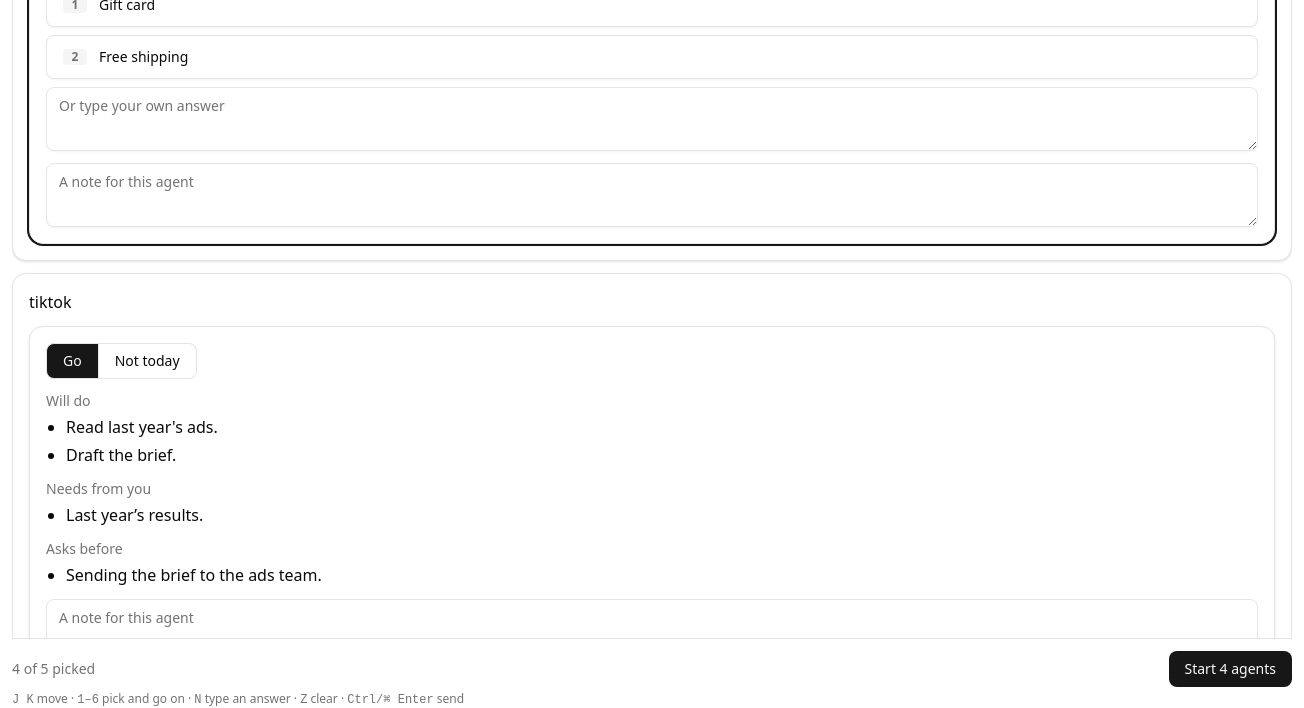
Test case: starts every plan card on Go and sends each with the other answers on one Start, one tap per card
The image size is (1304, 708).
(page scrolled)
Expected: the button "Start 4 agents" is shown, [1168,651,1292,687]
Click the radio button labelled "Not today" at (148, 360), box [99,342,197,378]
(page scrolled)
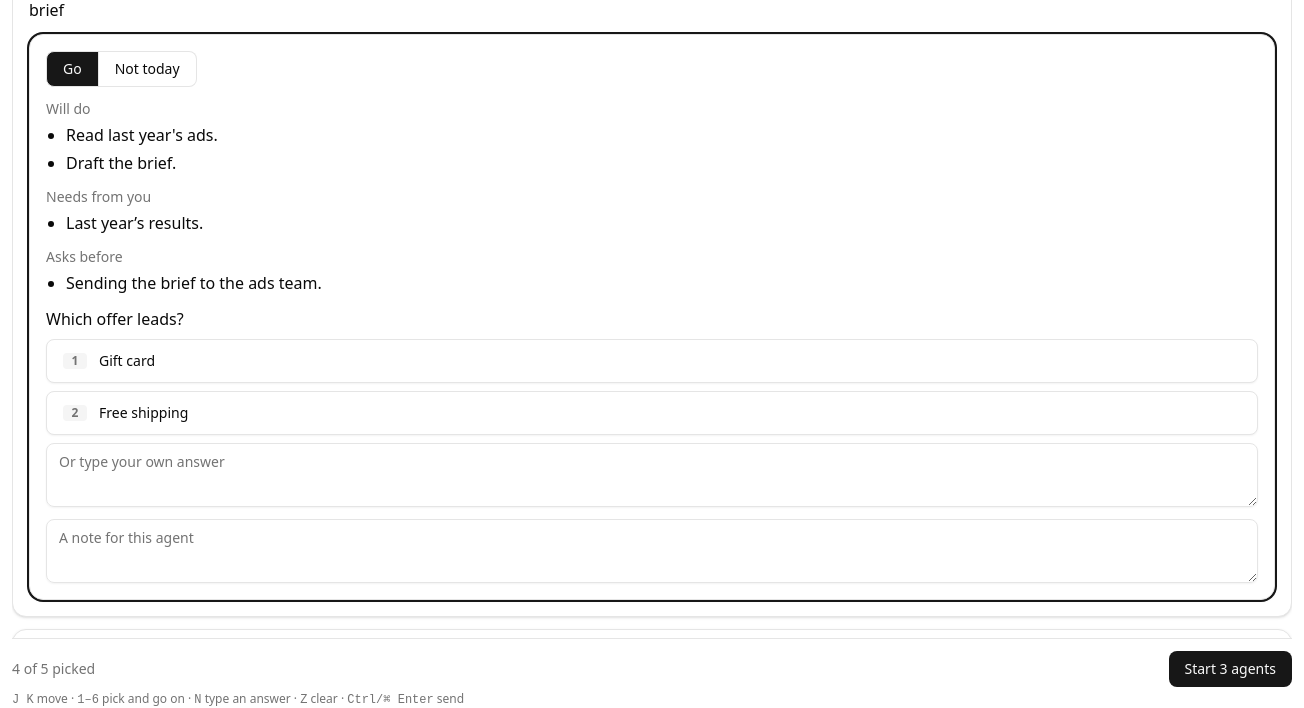
Result: the button "Start 3 agents" is shown at [1168,651,1292,687]
Click the radio button labelled "Gift card" at (652, 360), box [46,338,1258,382]
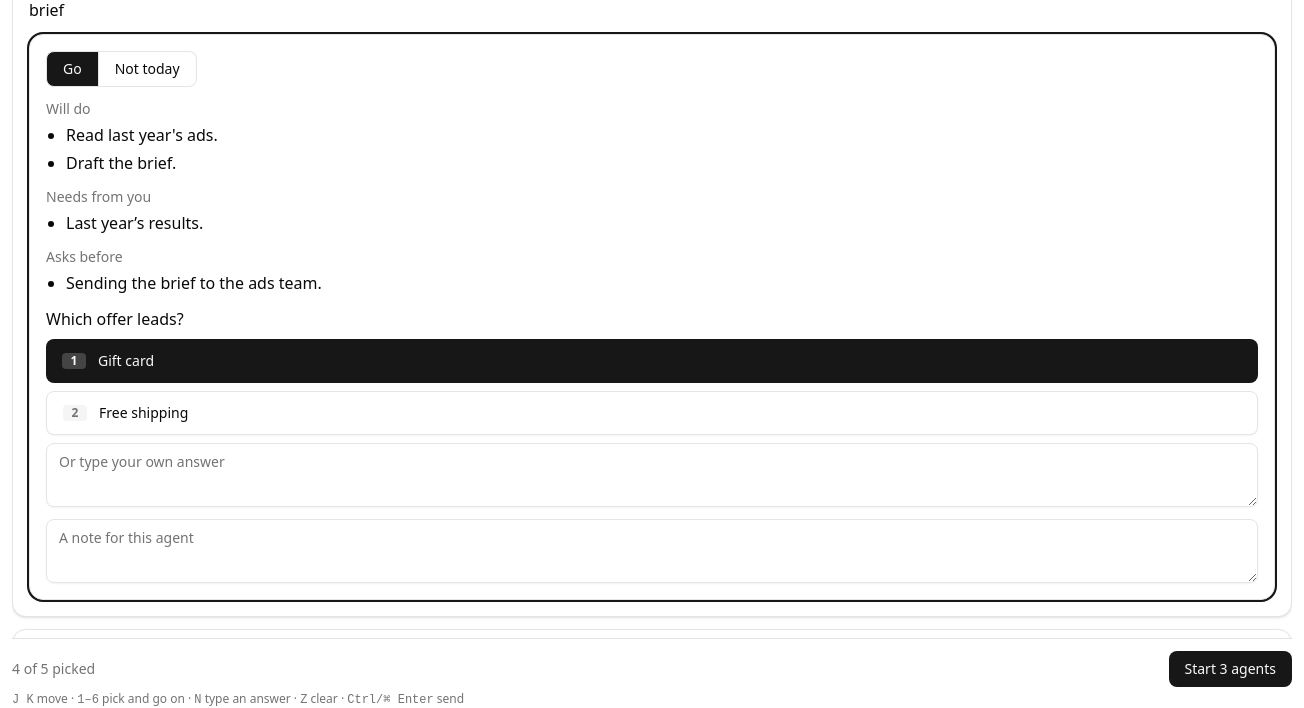
Type "Keep it short" into the text box labelled "A note for this agent" at (652, 550), box [46,518,1258,582]
(page scrolled)
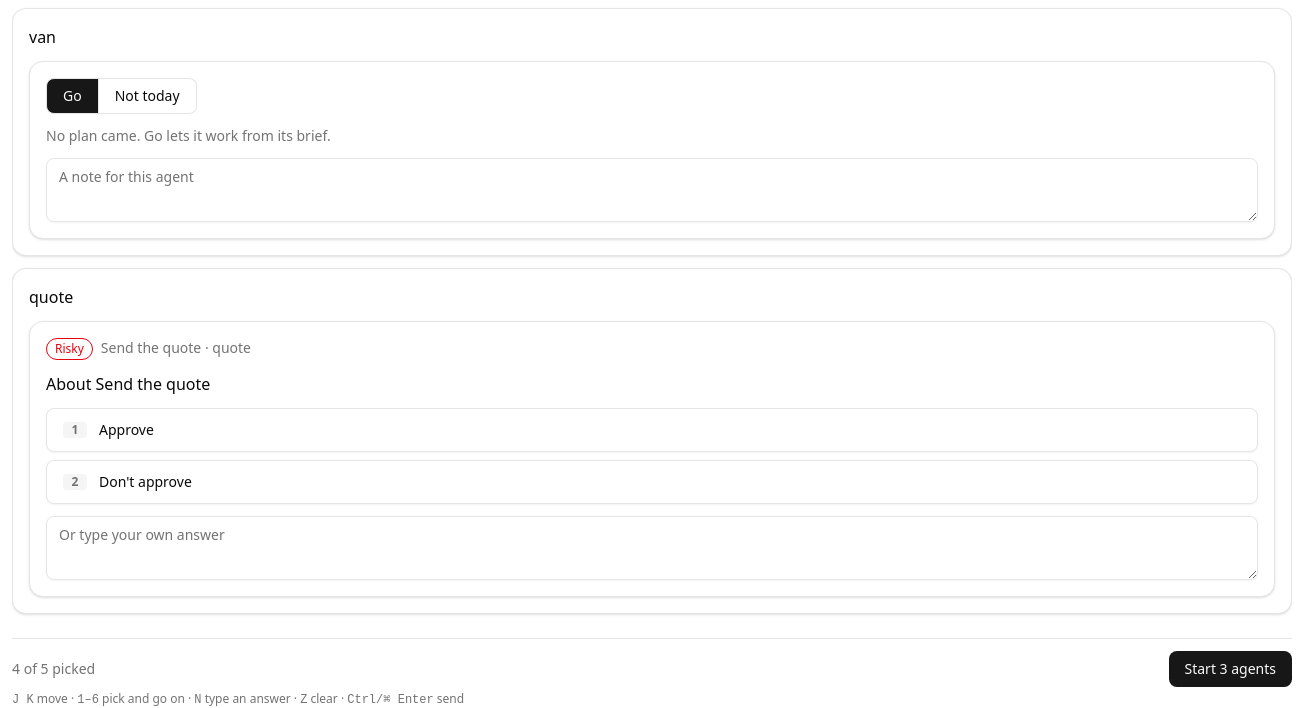
Click the radio button labelled "Approve" at (652, 430), box [46,408,1258,452]
(page scrolled)
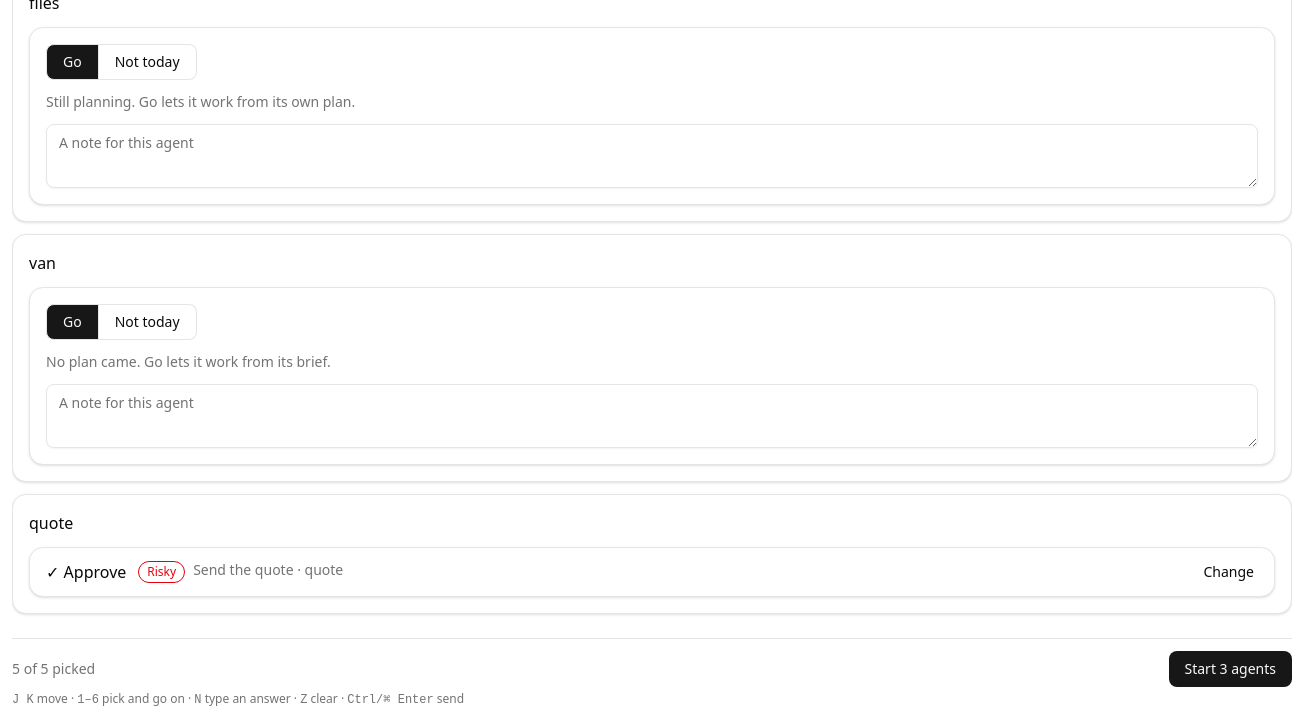
Click the button "Start 3 agents" at (1230, 668), box [1168,650,1292,686]
(page scrolled)
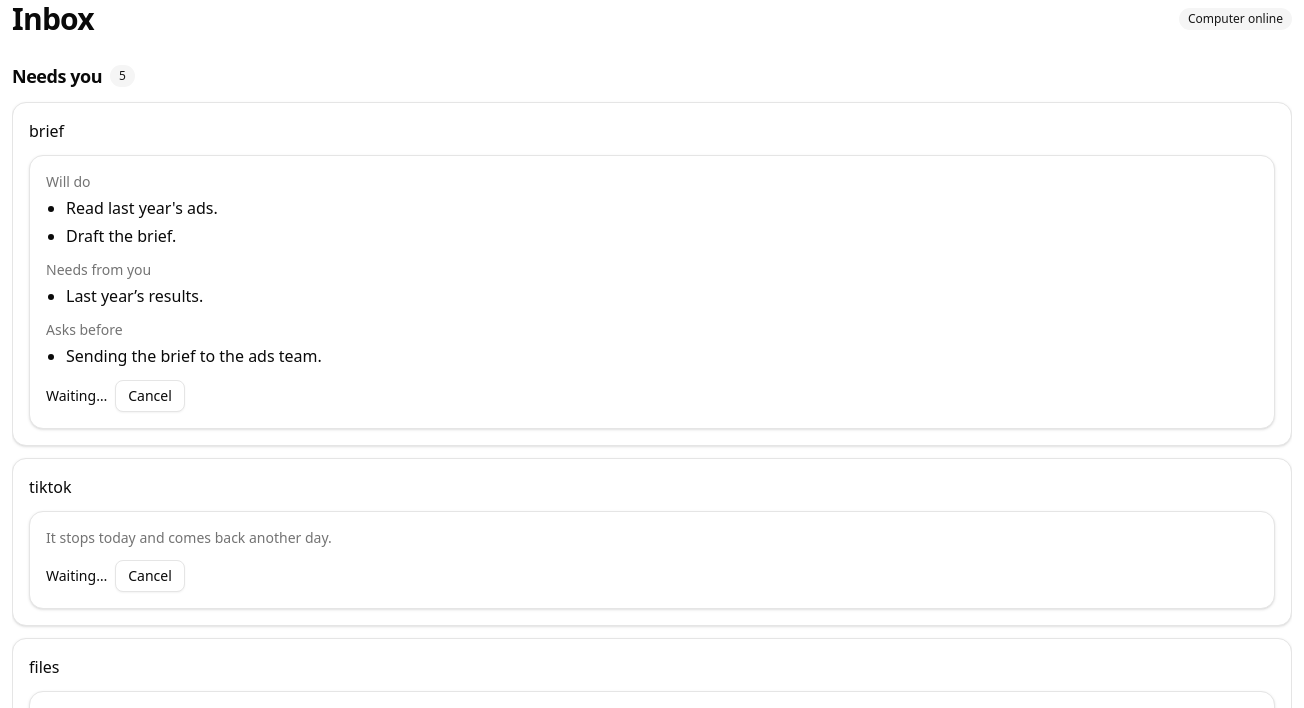
Expected: the text "Will do" is shown, [46,172,91,190]
Result: the text "It stops today and comes back another day." is shown at [46,528,332,546]
Result: the message "Waiting… Cancel" below "Sending the brief to the ads team." is shown at [46,386,107,404]
